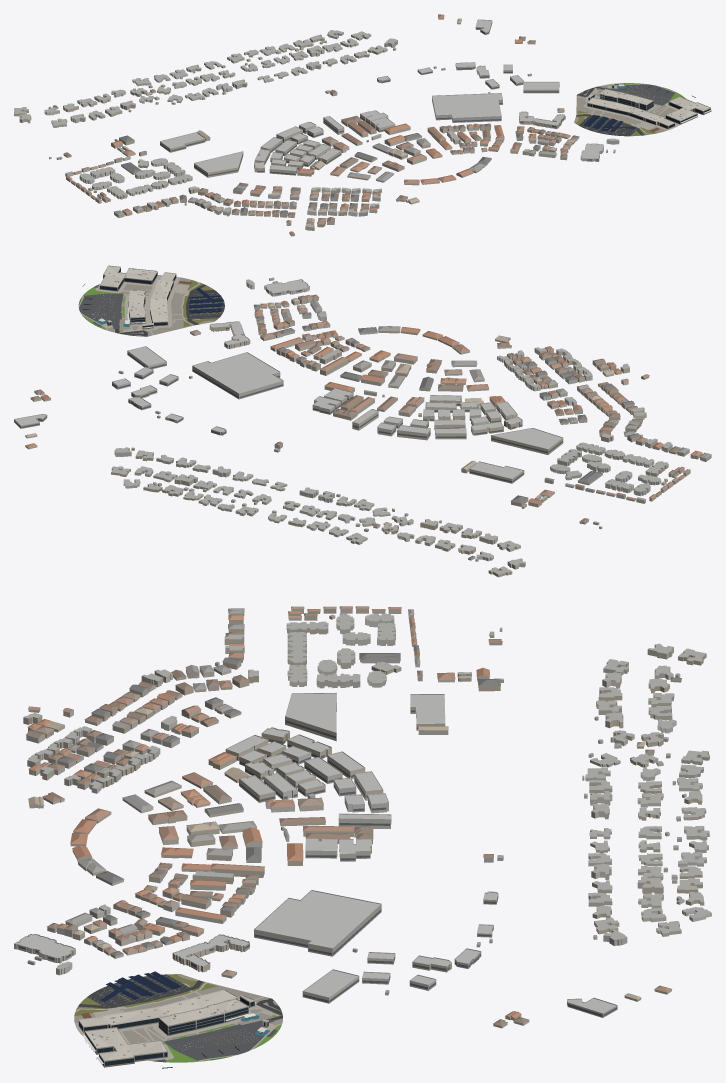
Rendered from buildings_r3_c3.glb.
3 views of the same model, one above another, from view 1: azimuth 30°, elevation 25°; view 2: azimuth 150°, elevation 25°; view 3: azimuth 270°, elevation 25° (orthographic). The views are drawn at different scales.
Parts seen in each view (by area): view 1: buildings_r3_c3, hero_design39_0, hero_design39_2, hero_design39_3, hero_design39_1; view 2: buildings_r3_c3, hero_design39_0, hero_design39_2, hero_design39_1, hero_design39_3; view 3: buildings_r3_c3, hero_design39_0, hero_design39_2, hero_design39_3, hero_design39_1.
Part boxes in pixels (box(x1,y1,x2,y2)): buildings_r3_c3: box(14, 14, 619, 236); hero_design39_0: box(574, 83, 685, 136); hero_design39_2: box(587, 83, 711, 129); hero_design39_3: box(583, 85, 710, 132); hero_design39_1: box(576, 84, 679, 134); buildings_r3_c3: box(14, 277, 711, 577); hero_design39_0: box(78, 277, 224, 336); hero_design39_2: box(82, 265, 176, 329); hero_design39_1: box(78, 275, 200, 335); hero_design39_3: box(100, 268, 223, 328); buildings_r3_c3: box(14, 606, 711, 1028); hero_design39_0: box(74, 974, 282, 1062); hero_design39_2: box(78, 989, 268, 1068); hero_design39_3: box(79, 971, 268, 1065); hero_design39_1: box(75, 982, 281, 1061).
Bounding box in the file's own units: 1252 × 30.81 × 814.
